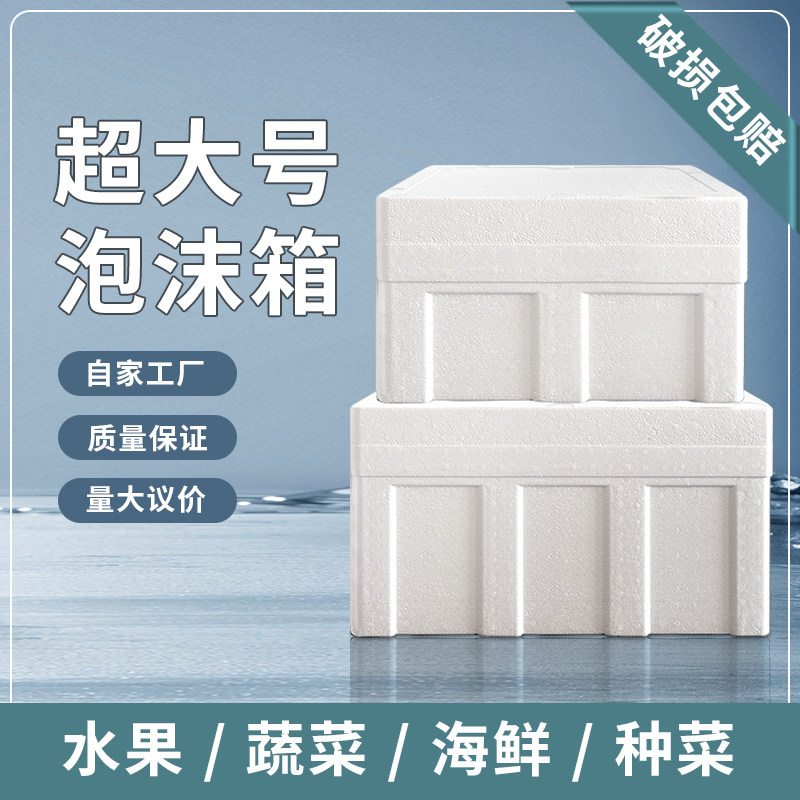泡沫箱: (351, 166, 771, 637)
